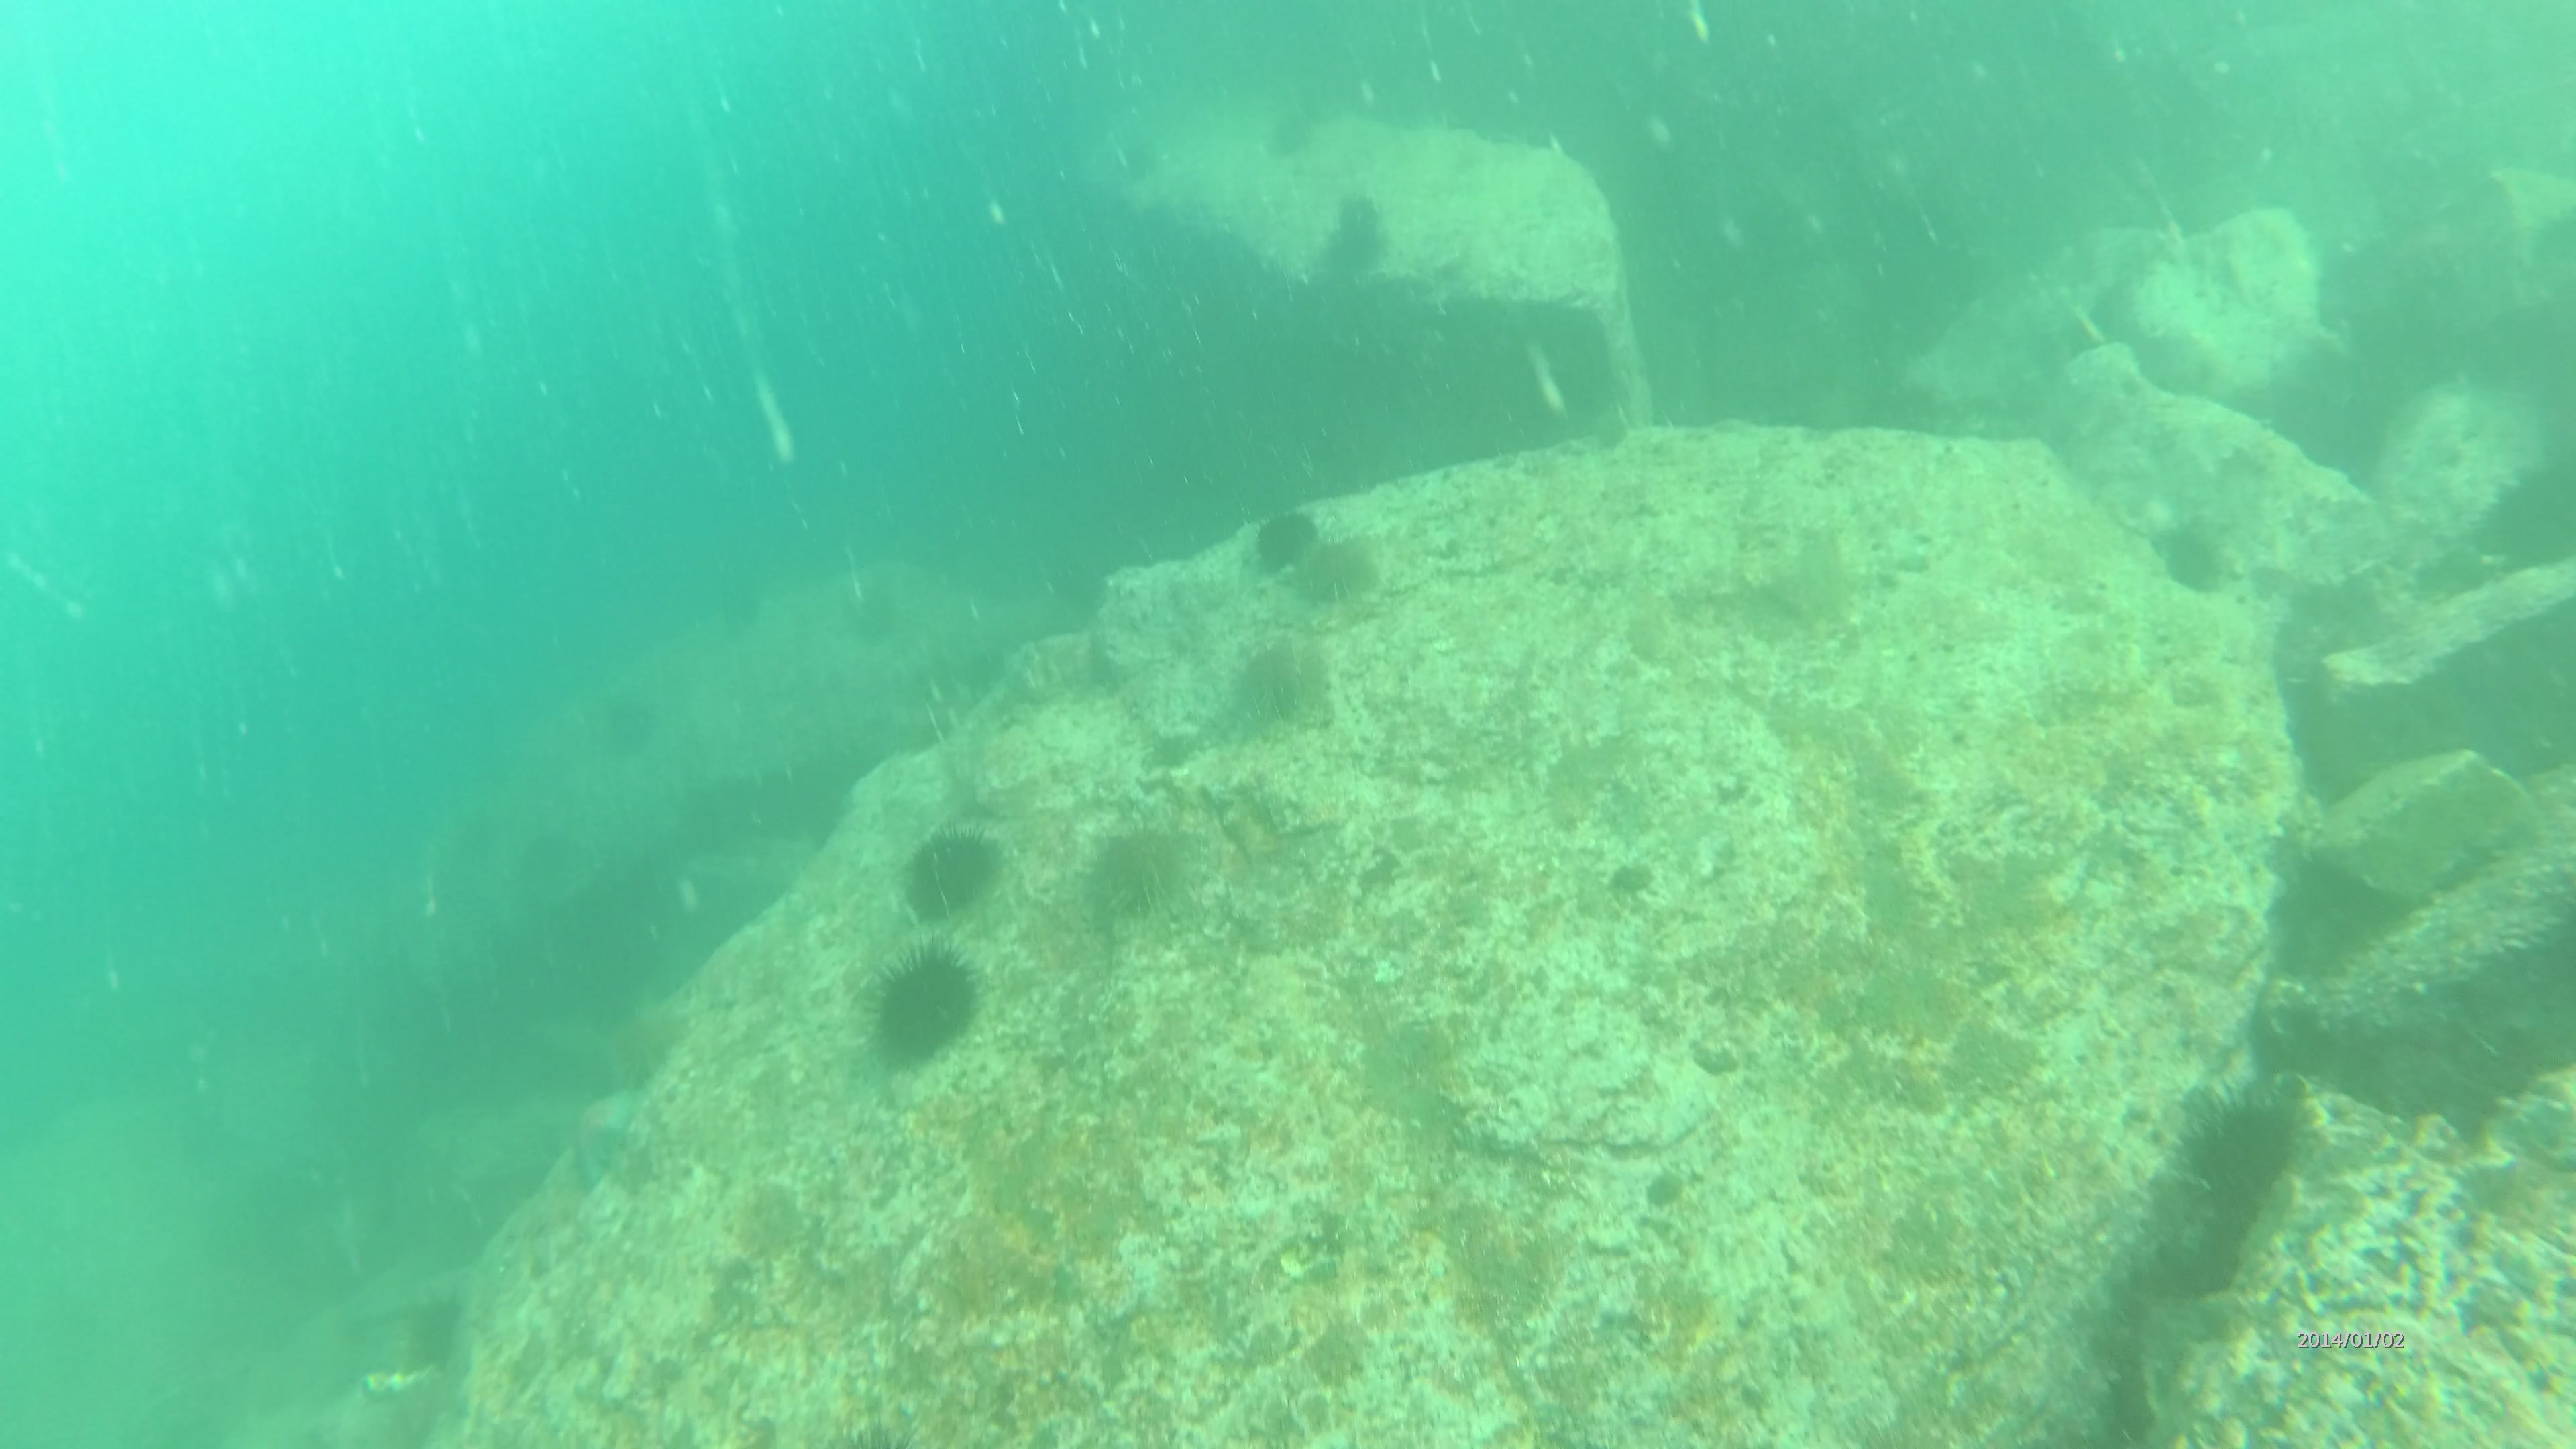echinus: (863, 936, 984, 1079), (899, 821, 1014, 924), (1088, 821, 1189, 931), (2146, 501, 2249, 607), (1223, 639, 1320, 736), (1323, 184, 1396, 274), (1246, 506, 1325, 584), (1295, 534, 1380, 605), (847, 573, 916, 653), (709, 577, 777, 646), (1109, 134, 1175, 203), (439, 803, 497, 878), (1260, 110, 1330, 166), (517, 816, 577, 879), (607, 688, 655, 761)
